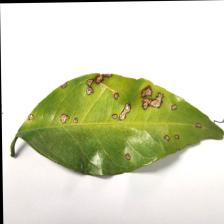canker: (29, 65, 208, 162)
